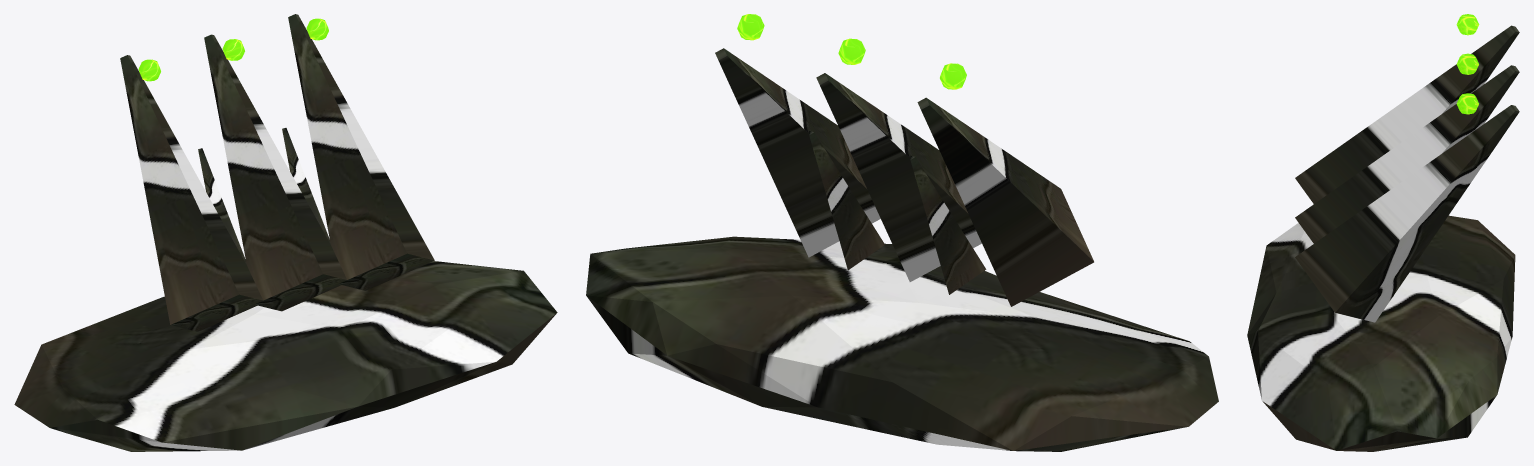
The model's file is verdant_spike_wall.glb.
The picture shows the model from 3 angles, left to right: view 1: azimuth 30°, elevation 25°; view 2: azimuth 150°, elevation 25°; view 3: azimuth 270°, elevation 25°; orthographic projection. The views are drawn at different scales.
Parts seen in each view (by area): view 1: VerdantSpikeWall; view 2: VerdantSpikeWall; view 3: VerdantSpikeWall.
Boxes of the visible parts, box(x1,y1,x2,y2) form: VerdantSpikeWall: box(14, 14, 557, 451); VerdantSpikeWall: box(586, 14, 1218, 451); VerdantSpikeWall: box(1247, 14, 1519, 451).
Size of the model in its own units: 3.97 by 2.49 by 1.92.
Materials: 2 (2 with a texture image).
